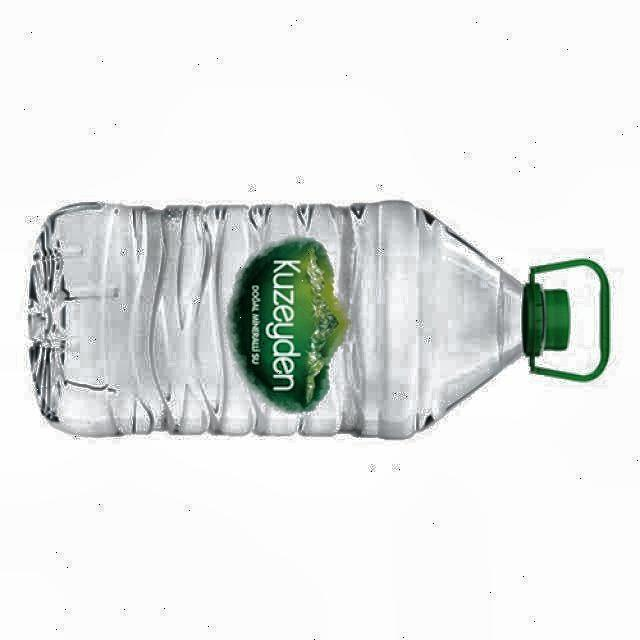plastic: (29, 201, 610, 438)
